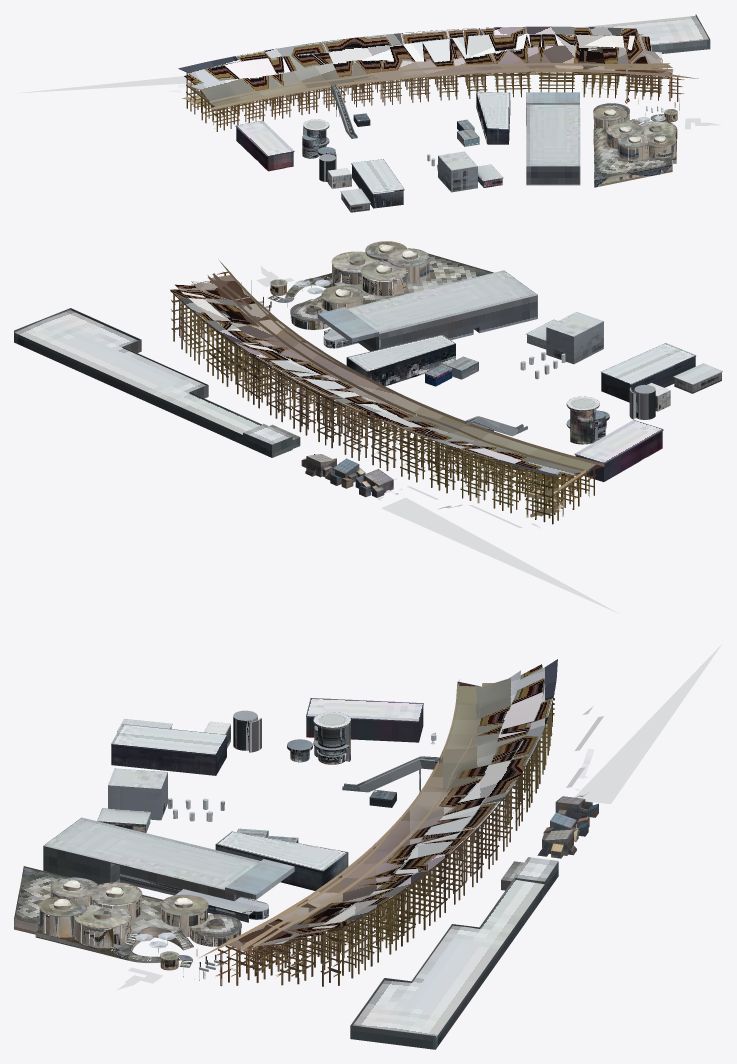
3 renders of one model, top to bottom at view 1: azimuth 30°, elevation 25°; view 2: azimuth 150°, elevation 25°; view 3: azimuth 270°, elevation 25°, orthographic. The views are drawn at different scales.
Parts seen in each view (by area): view 1: GrandRoofRing_大屋根リング, Buildings_建物パビリオン; view 2: Buildings_建物パビリオン, GrandRoofRing_大屋根リング, Facilities_都市設備; view 3: Buildings_建物パビリオン, GrandRoofRing_大屋根リング, Facilities_都市設備.
Part boxes in pixels (x1=…): GrandRoofRing_大屋根リング: x1=178, y1=26, x2=698, y2=138; Buildings_建物パビリオン: x1=17, y1=14, x2=721, y2=212; Buildings_建物パビリオン: x1=14, y1=241, x2=722, y2=613; GrandRoofRing_大屋根リング: x1=170, y1=259, x2=604, y2=524; Facilities_都市設備: x1=241, y1=279, x2=568, y2=477; Buildings_建物パビリオン: x1=14, y1=644, x2=721, y2=1049; GrandRoofRing_大屋根リング: x1=198, y1=659, x2=557, y2=986; Facilities_都市設備: x1=135, y1=732, x2=436, y2=980.
Size of the model in its own units: 307 by 21.46 by 226.
Materials: 42 (39 with a texture image).
